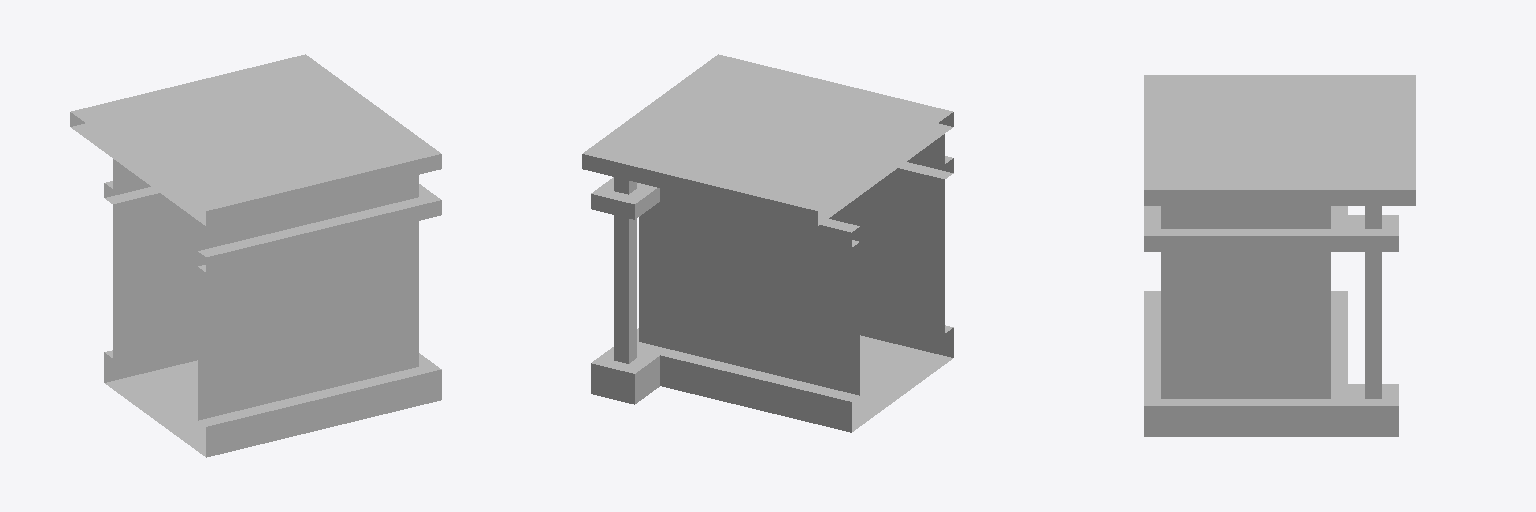
Rendered from desk_left.obj.
3 views of the same model, side by side, from view 1: azimuth 30°, elevation 25°; view 2: azimuth 150°, elevation 25°; view 3: azimuth 270°, elevation 25° (orthographic).
Visible parts, largest first — view 1: DESK_LEFT_MAIN; view 2: DESK_LEFT_MAIN; view 3: DESK_LEFT_MAIN.
Boxes of the visible parts, x1=… form: DESK_LEFT_MAIN: x1=70, y1=54, x2=441, y2=457; DESK_LEFT_MAIN: x1=582, y1=54, x2=953, y2=432; DESK_LEFT_MAIN: x1=1144, y1=75, x2=1415, y2=436.
Size of the model in its own units: 1 by 1 by 1.